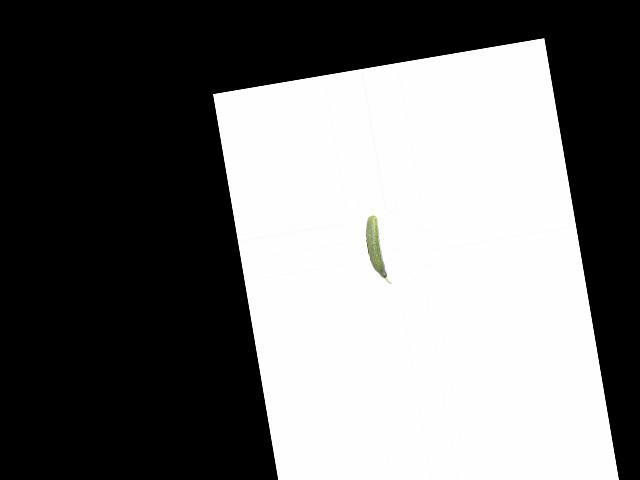cucumber: (362, 214, 391, 287)
